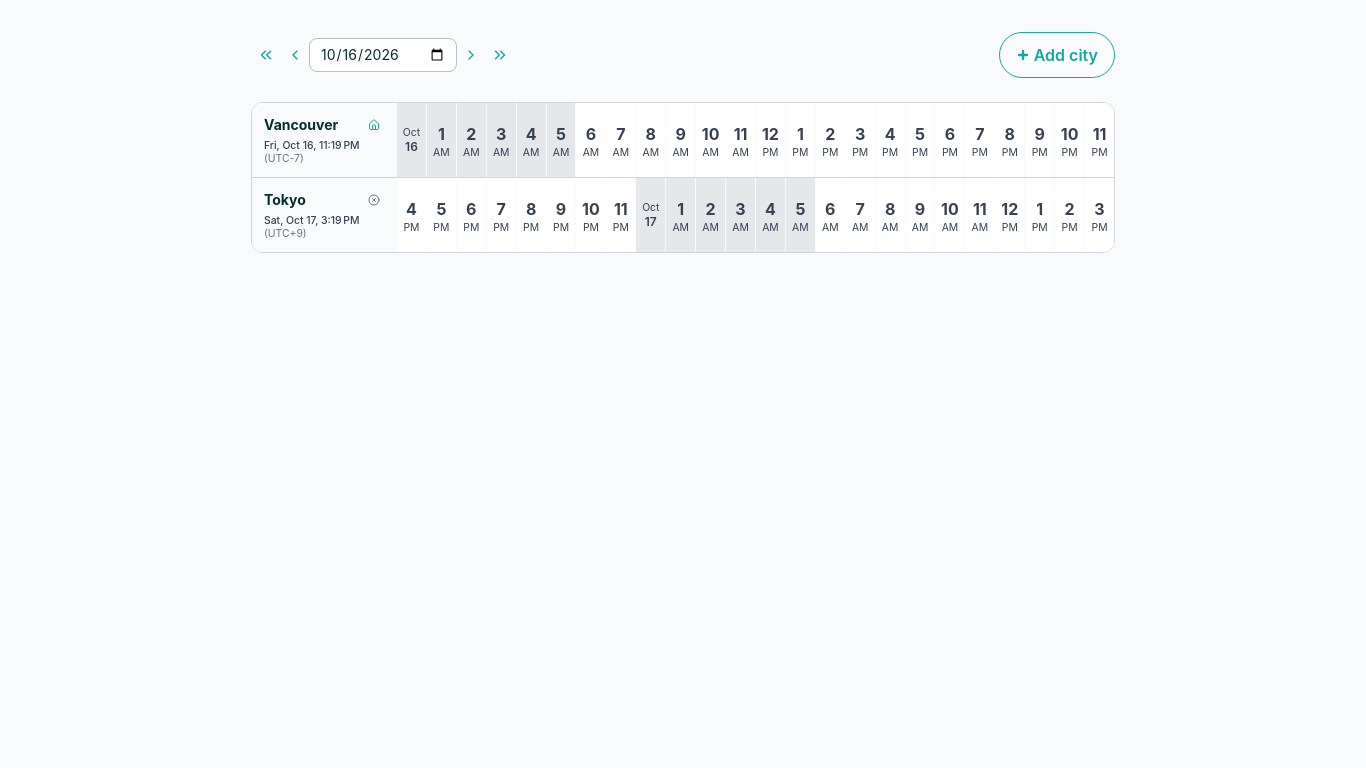
Test: WorldClock › opens the time selection modal from a time cell
This screenshot has width=1366, height=768.
Click the cell "1 AM" in the row of "Vancouver": (441, 140) 427,103 -> 456,177
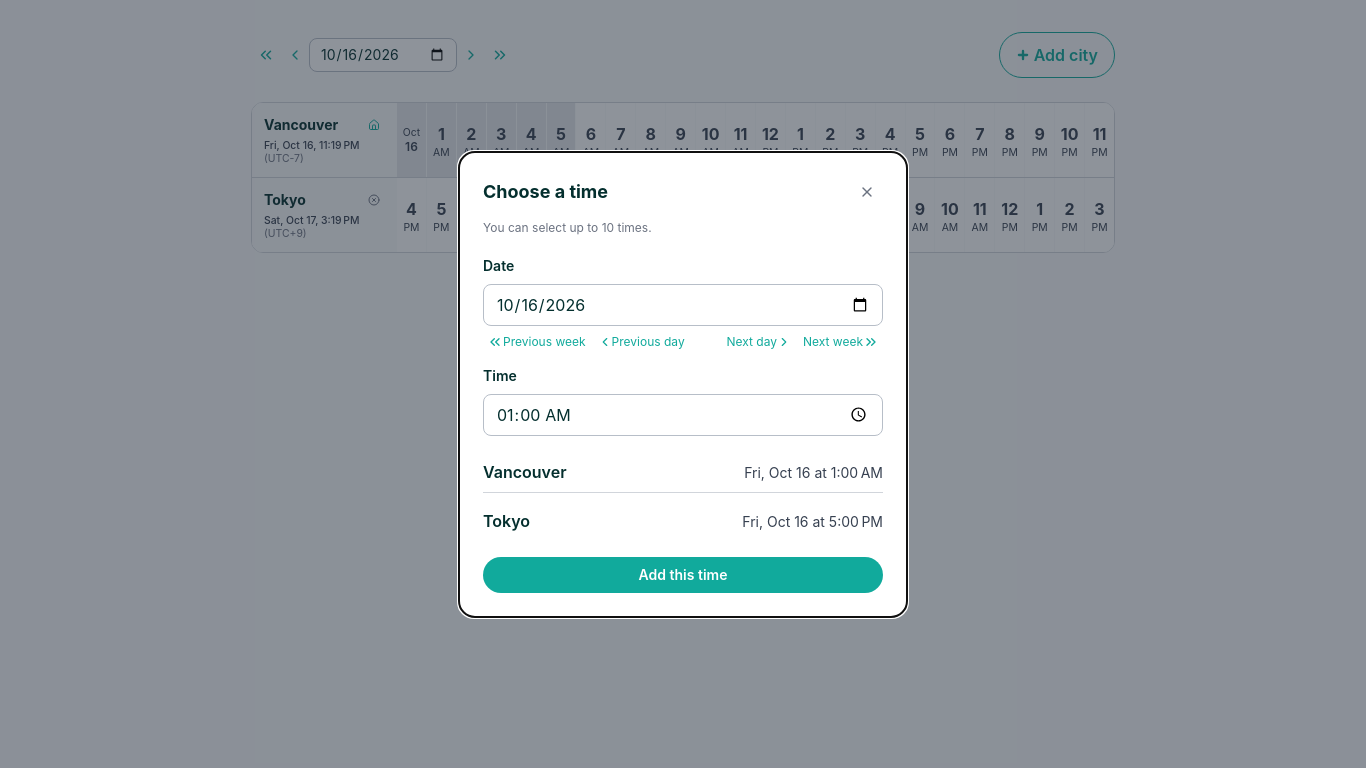
Expected: the dialog "Choose a time" is shown, 459,152 -> 907,616
Expected: the text "You can select up to 10 times." is shown, 483,220 -> 652,234
Expected: the text "Tokyo" is shown, 483,508 -> 530,532
